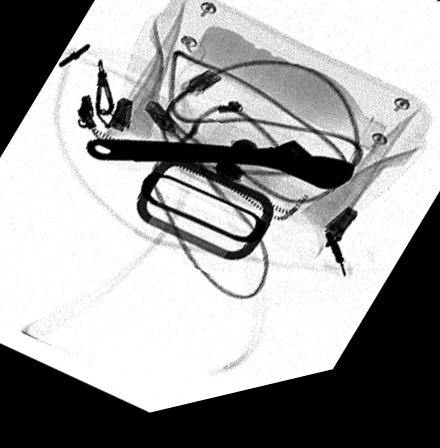Wrench: (82, 140, 355, 208)
